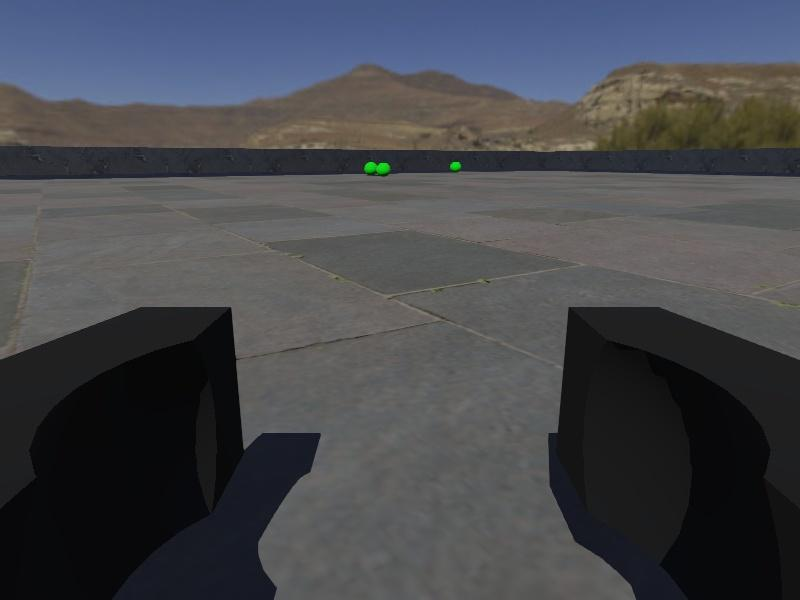green ball: (376, 161, 391, 176), (449, 159, 462, 172)
